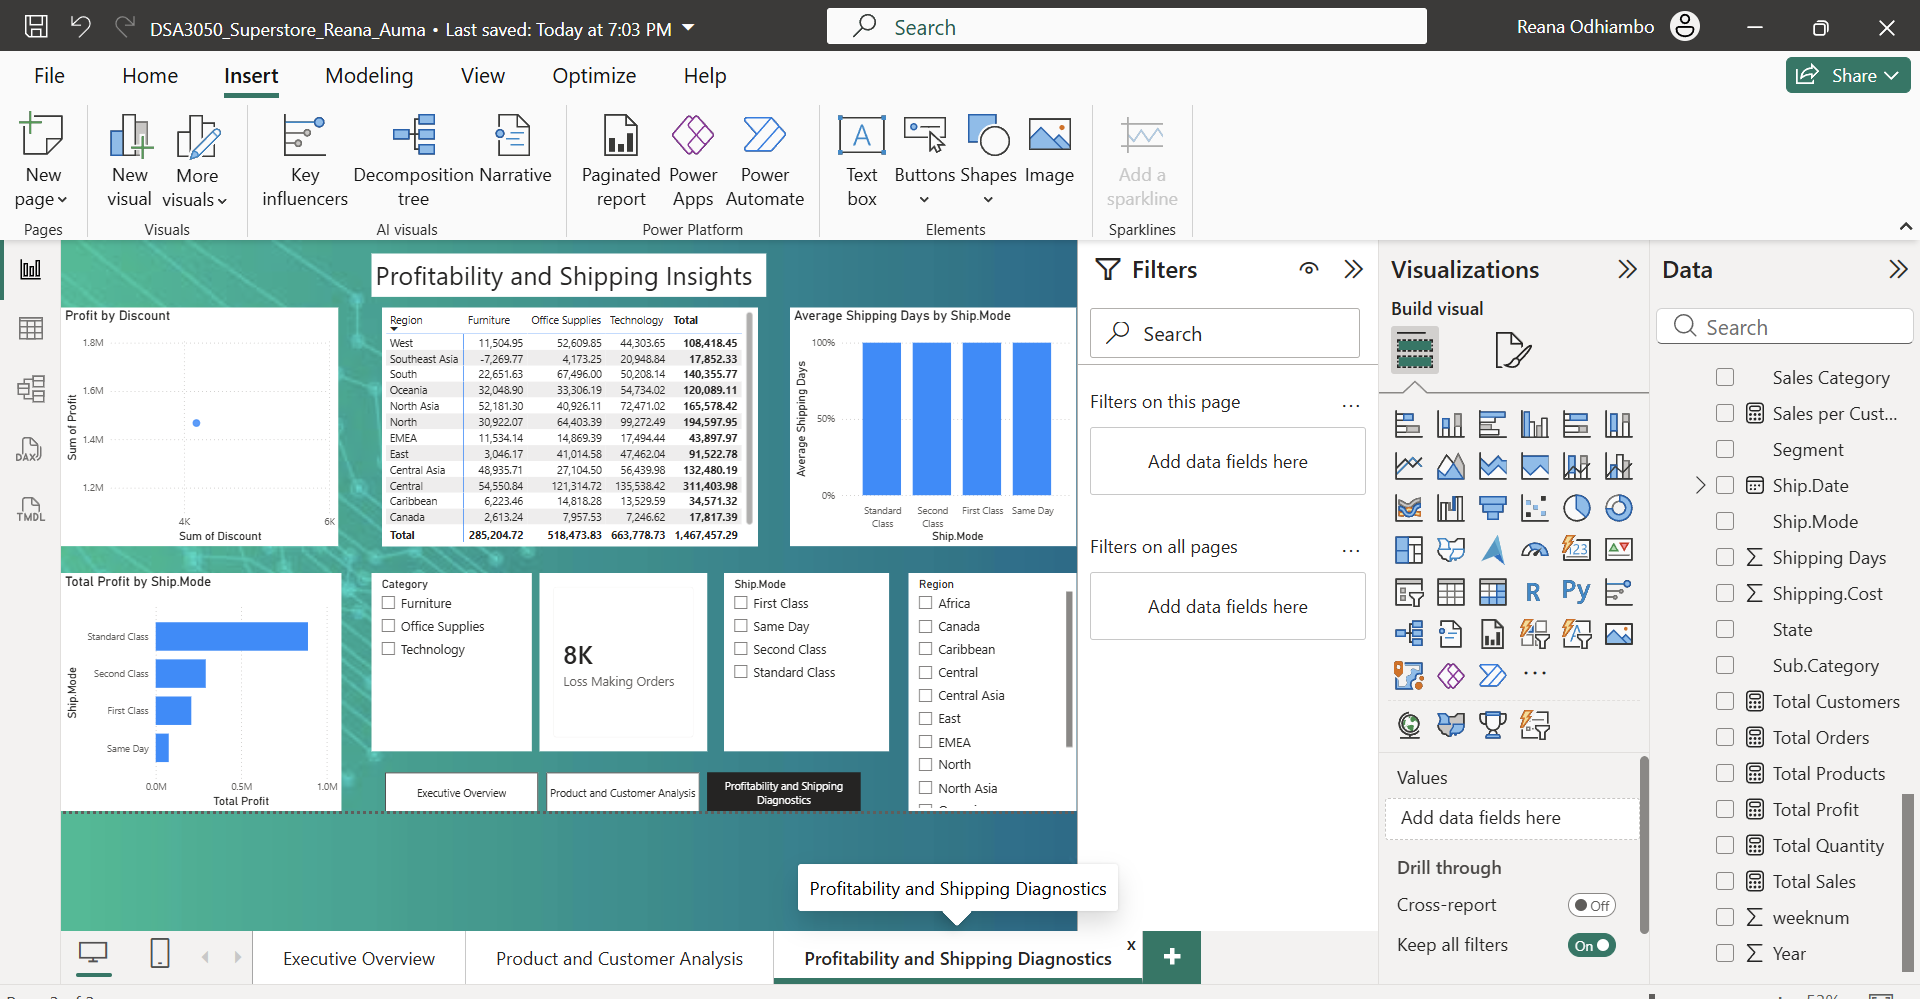

This screenshot's page, from the dashboard's own definition file:
{"tool":"powerbi","page":{"name":"Profitability and Shipping Diagnostics","canvas":[1280,720],"ordinal":2},"visuals":[{"type":"textbox","box":[391.2,17,497,54.8],"z":0},{"type":"scatterChart","title":"Profit by Discount","fields":{"X":["Sum(FactSales.Discount)"],"Y":["Sum(FactSales.Profit)"]},"box":[0,85,349.6,300.5],"z":1},{"type":"barChart","fields":{"Category":["FactSales.Ship.Mode"],"Y":["FactSales.Total Profit"]},"box":[0,419.5,353.4,300.5],"z":2},{"type":"hundredPercentStackedColumnChart","fields":{"Category":["FactSales.Ship.Mode"],"Y":["FactSales.Average Shipping Days"]},"box":[918.4,85,360.9,300.5],"z":3},{"type":"cardVisual","fields":{"Data":["FactSales.Loss Making Orders"]},"box":[602.8,419.5,211.7,224.9],"z":4},{"type":"pivotTable","fields":{"Columns":["FactSales.Category"],"Rows":["FactSales.Region"],"Values":["FactSales.Total Profit"]},"box":[404.4,85,472.4,300.5],"z":5},{"type":"slicer","fields":{"Values":["FactSales.Region"]},"box":[1067.7,419.5,211.7,300.5],"z":6},{"type":"slicer","fields":{"Values":["FactSales.Ship.Mode"]},"box":[835.3,419.5,207.9,224.9],"z":7},{"type":"slicer","fields":{"Values":["FactSales.Category"]},"box":[391.2,419.5,202.2,224.9],"z":8},{"type":"pageNavigator","box":[408.2,670.9,600,50],"z":9}]}

Visuals, with their boxes on the page's 1280x720 design canvas (x1, y1, x2, y2). These are canvas units, not pixel positions in the 1920x999 screenshot, which may show the page scaled, cropped or inside an application window:
textbox: 391/17/888/72
"Profit by Discount" scatterChart: 0/85/350/386
barChart - FactSales.Ship.Mode x FactSales.Total Profit: 0/420/353/720
hundredPercentStackedColumnChart - FactSales.Ship.Mode x FactSales.Average Shipping Days: 918/85/1279/386
cardVisual - FactSales.Loss Making Orders: 603/420/814/644
pivotTable - FactSales.Category x FactSales.Region: 404/85/877/386
slicer - FactSales.Region: 1068/420/1279/720
slicer - FactSales.Ship.Mode: 835/420/1043/644
slicer - FactSales.Category: 391/420/593/644
pageNavigator: 408/671/1008/721
